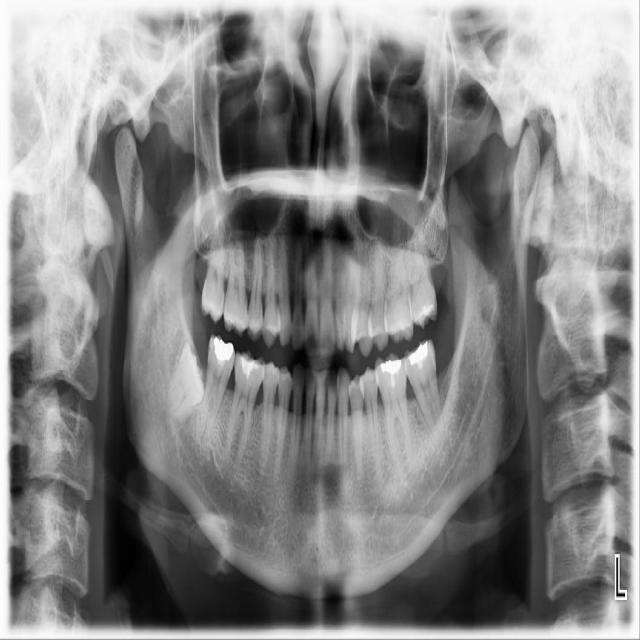Filling: (409, 341, 427, 369), (214, 337, 233, 361), (241, 358, 258, 378), (380, 359, 401, 375)
impacted tooth: (162, 339, 205, 424)
